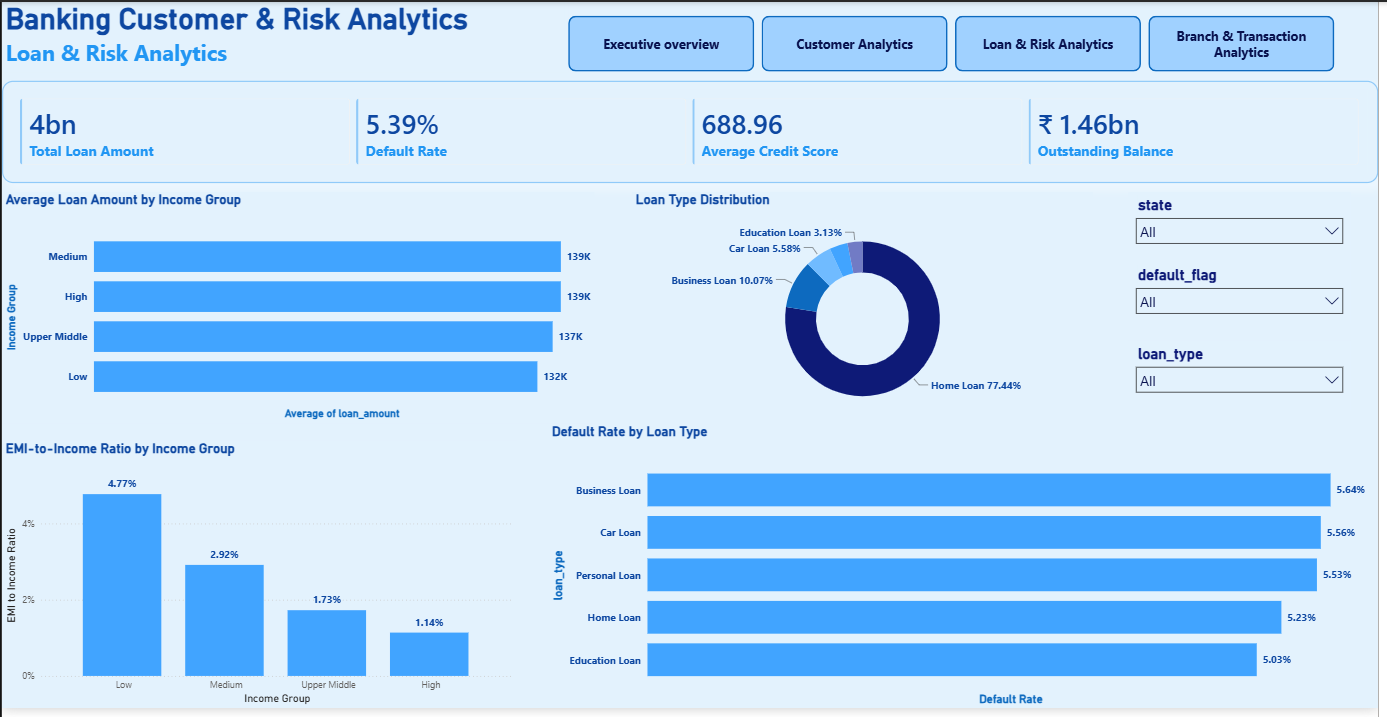

The page's visual inventory and layout, read from the dashboard file:
{"tool":"powerbi","page":{"name":"Loan & Risk Analytics","canvas":[1850,950],"ordinal":2},"visuals":[{"type":"textbox","title":"Banking Customer & Risk Analytics ","box":[0,0,761.3,94.1],"z":0},{"type":"cardVisual","fields":{"Data":["new measures.Total Loan Amount","new measures.Default Rate","new measures.Average Credit Score","new measures.Outstanding Balance"]},"box":[0,105.9,1850.3,137.8],"z":1000},{"type":"clusteredBarChart","title":"Average Loan Amount by Income Group","fields":{"Category":["customers.Income Group"],"Y":["Avg(loans.loan_amount)"]},"box":[0,255.5,796.6,310.9],"z":2000},{"type":"clusteredColumnChart","title":"EMI-to-Income Ratio by Income Group","fields":{"Category":["customers.Income Group"],"Y":["new measures.EMI to Income Ratio"]},"box":[0,590,692,360],"z":3000},{"type":"clusteredBarChart","title":"Default Rate by Loan Type","fields":{"Category":["loans.loan_type"],"Y":["new measures.Default Rate"]},"box":[734,566,1116,384],"z":4000},{"type":"donutChart","title":"Loan Type Distribution","fields":{"Y":["Sum(loans.loan_amount)"],"Category":["loans.loan_type"]},"box":[847,255.5,620.1,309.2],"z":5000},{"type":"slicer","fields":{"Values":["customers.state"]},"box":[1514.2,255.5,299.1,94.1],"z":6000},{"type":"slicer","fields":{"Values":["loans.loan_type"]},"box":[1514.2,455.4,299.1,94.1],"z":7000},{"type":"slicer","fields":{"Values":["loans.default_flag"]},"box":[1514.2,349.6,299.1,82.3],"z":8000},{"type":"pageNavigator","box":[761.3,18.5,1031.9,75.6],"z":8001}]}

Visuals, with their boxes in screenshot pixels (x1, y1, x2, y2), scaled from the page's 1850x950 canvas onto the 1387x717 screenshot:
"Banking Customer & Risk Analytics " textbox: pyautogui.locateOnScreen(0, 0, 571, 71)
cardVisual - new measures.Total Loan Amount x new measures.Default Rate: pyautogui.locateOnScreen(0, 80, 1386, 184)
"Average Loan Amount by Income Group" clusteredBarChart: pyautogui.locateOnScreen(0, 193, 597, 427)
"EMI-to-Income Ratio by Income Group" clusteredColumnChart: pyautogui.locateOnScreen(0, 445, 519, 716)
"Default Rate by Loan Type" clusteredBarChart: pyautogui.locateOnScreen(550, 427, 1386, 716)
"Loan Type Distribution" donutChart: pyautogui.locateOnScreen(635, 193, 1100, 426)
slicer - customers.state: pyautogui.locateOnScreen(1135, 193, 1359, 264)
slicer - loans.loan_type: pyautogui.locateOnScreen(1135, 344, 1359, 415)
slicer - loans.default_flag: pyautogui.locateOnScreen(1135, 264, 1359, 326)
pageNavigator: pyautogui.locateOnScreen(571, 14, 1344, 71)
